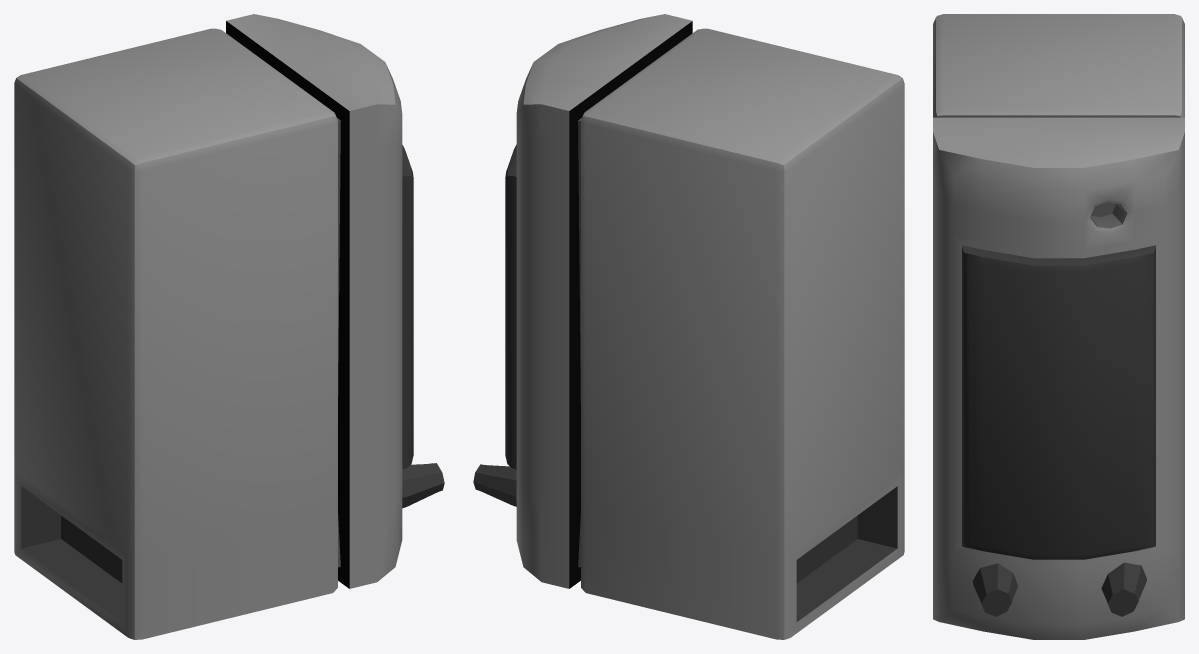
Rendered from PC_Speaker_02.glb.
3 renders of one model, left to right at view 1: azimuth 30°, elevation 25°; view 2: azimuth 150°, elevation 25°; view 3: azimuth 270°, elevation 25°, orthographic. The views are drawn at different scales.
Parts seen in each view (by area): view 1: Mesh_Speaker_02; view 2: Mesh_Speaker_02; view 3: Mesh_Speaker_02.
Boxes of the visible parts, x1=… form: Mesh_Speaker_02: x1=14, y1=14, x2=444, y2=639; Mesh_Speaker_02: x1=473, y1=14, x2=904, y2=639; Mesh_Speaker_02: x1=933, y1=14, x2=1184, y2=639.
Bounding box in the file's own units: 0.1833 × 0.25 × 0.117.
Materials: 1 (1 with a texture image).
